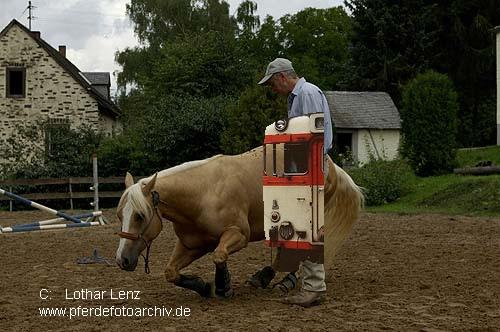tampered: (264, 113, 324, 272)
